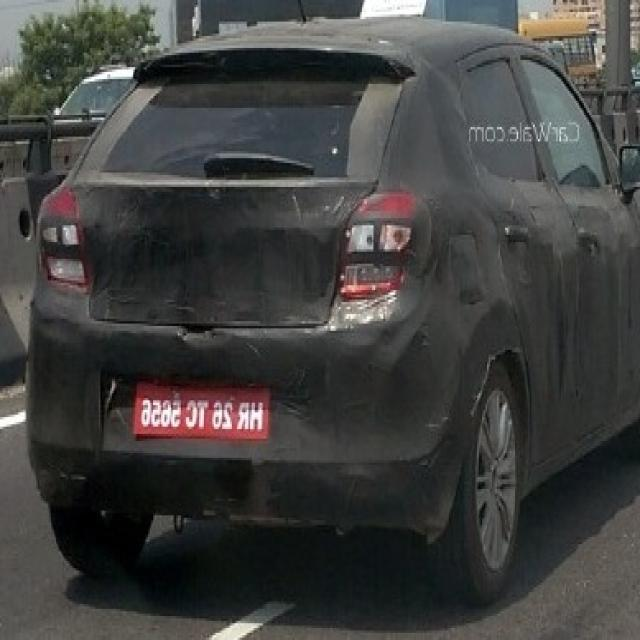number-plate: (134, 364, 266, 444)
